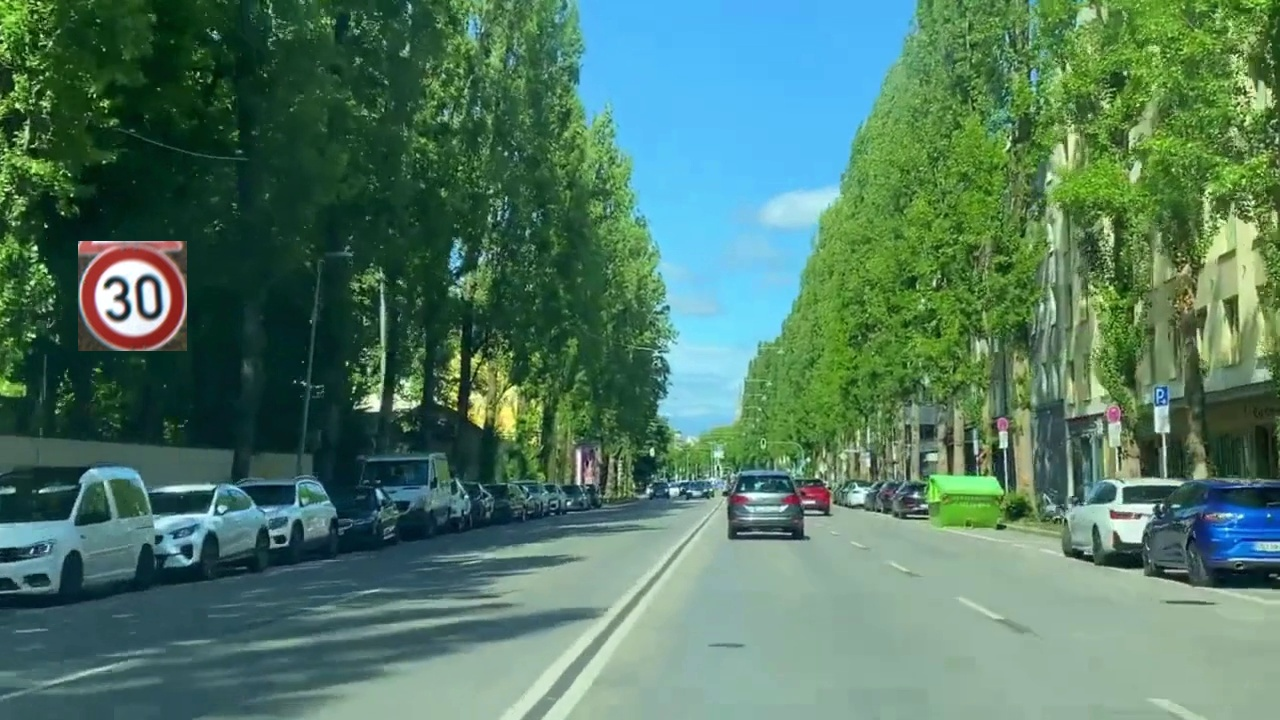Speed 30: (78, 241, 187, 351)
